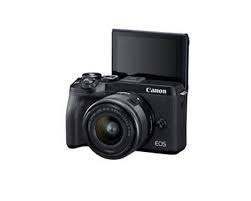camera: (67, 75, 186, 158)
